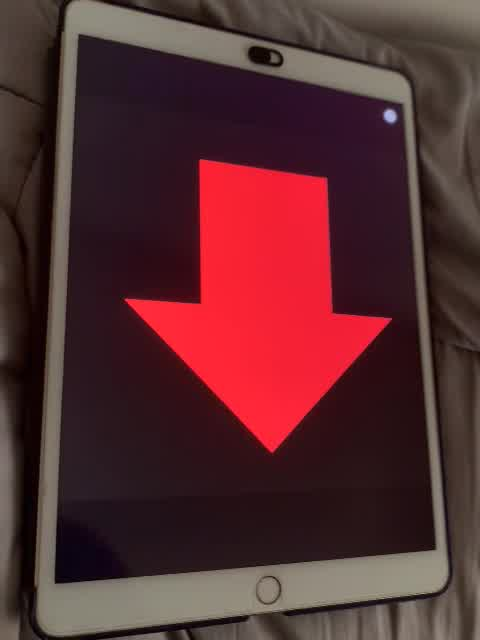down: (119, 146, 395, 464)
